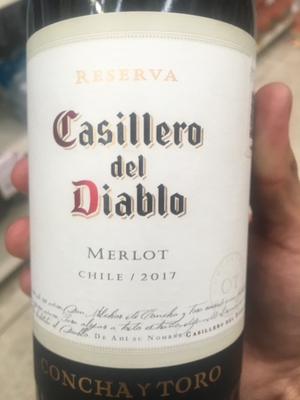casillero del diablo merlot: (26, 2, 257, 400)
